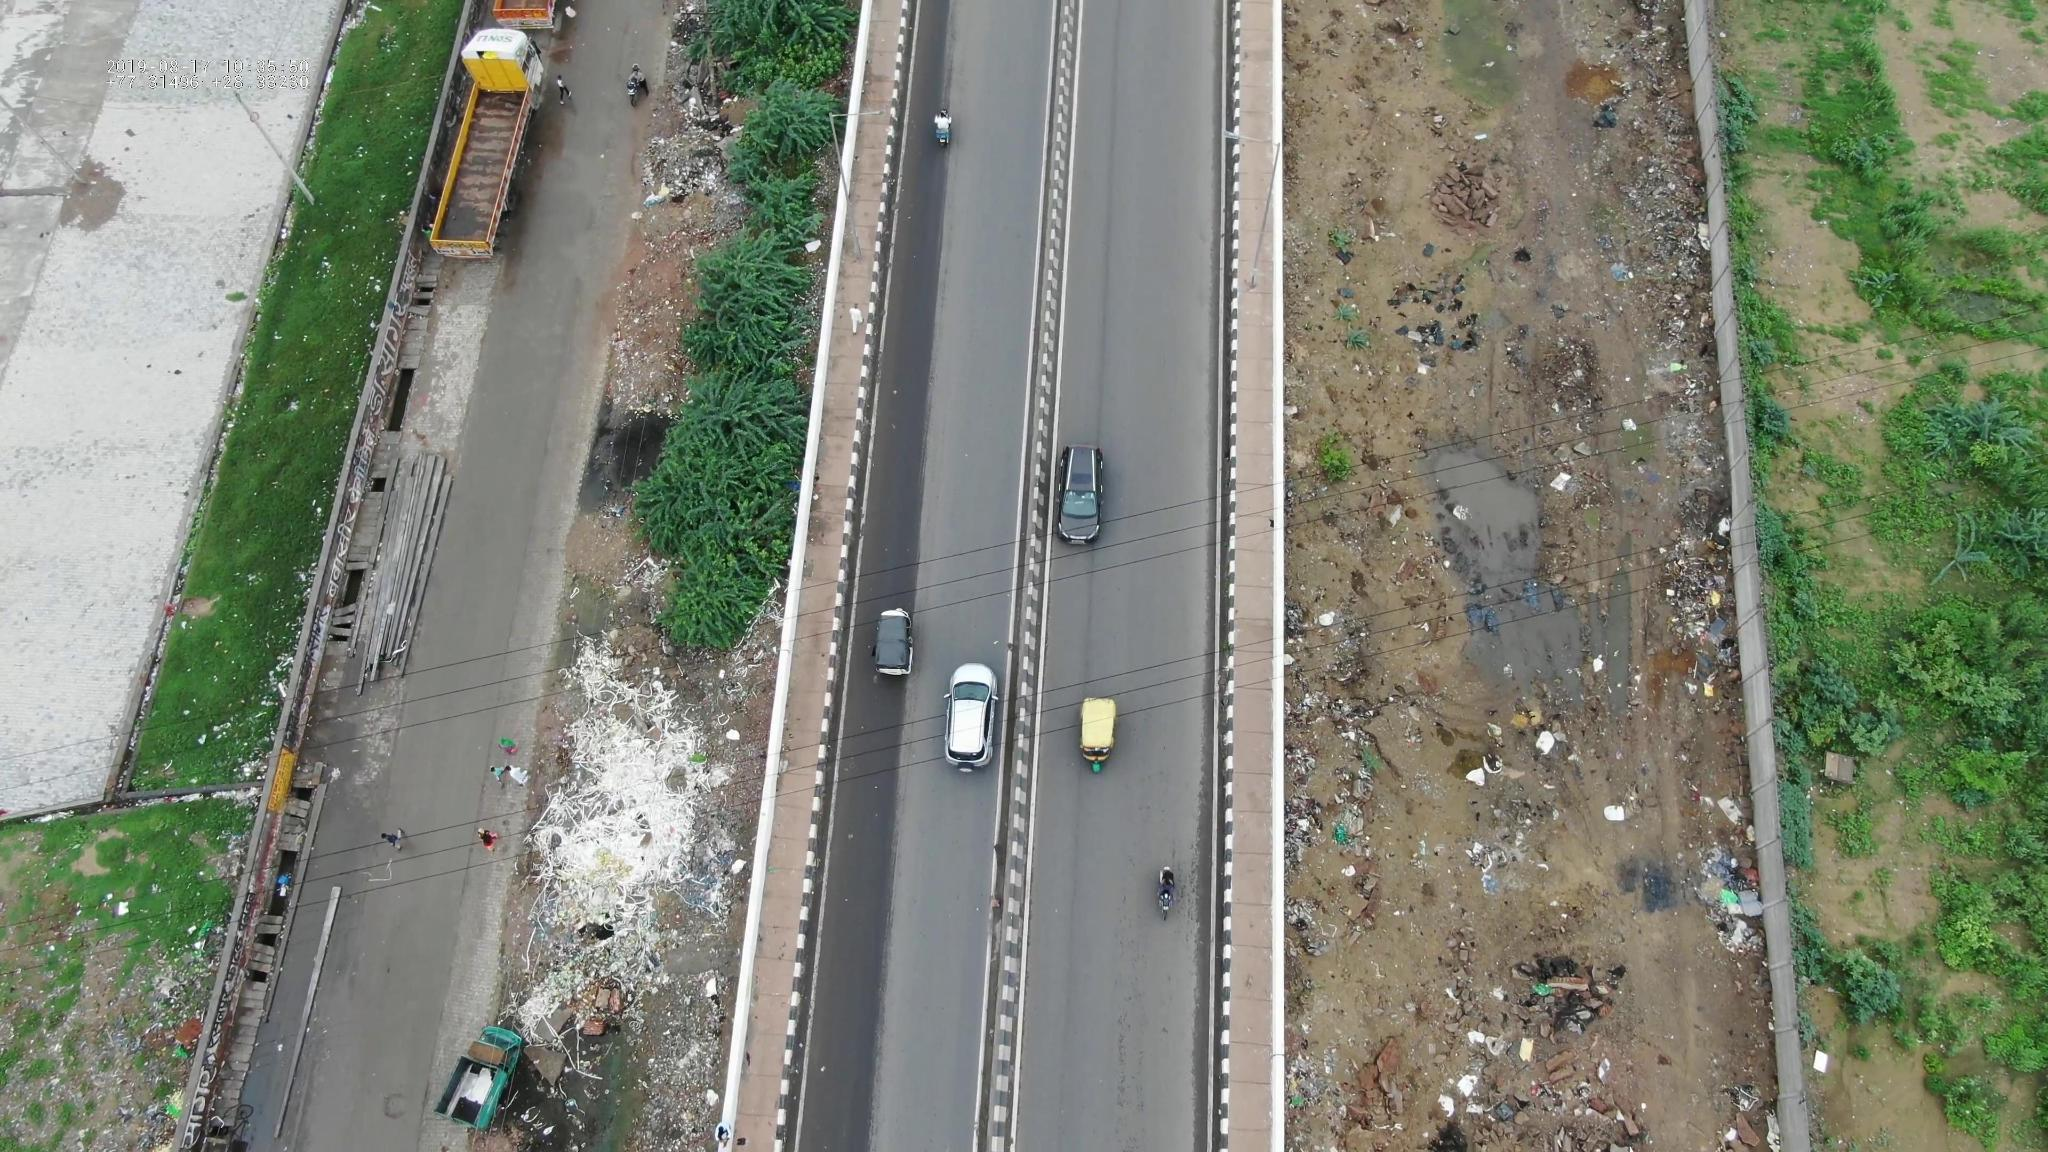Road_side_garbage: (519, 685, 716, 985)
Waterlogging: (565, 392, 678, 519)
